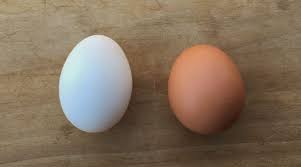eggs: (55, 28, 140, 142), (171, 33, 242, 142)
